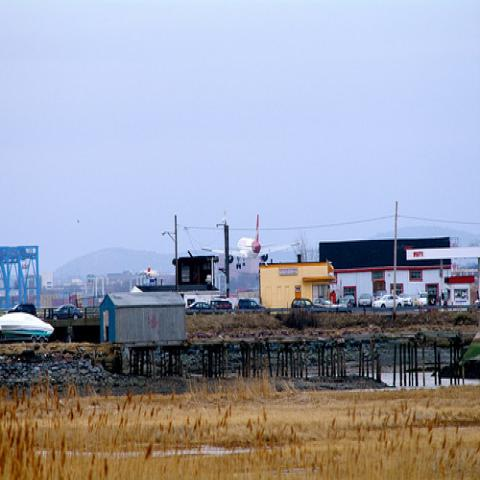bus: (184, 294, 227, 307)
car: (47, 293, 412, 320), (234, 298, 270, 314), (372, 294, 404, 311), (7, 302, 37, 316), (333, 298, 354, 314), (290, 298, 318, 308), (210, 298, 233, 309), (186, 301, 212, 310), (315, 297, 334, 308), (416, 292, 427, 308), (344, 295, 356, 306), (473, 298, 480, 310)
truck: (376, 289, 388, 301)
